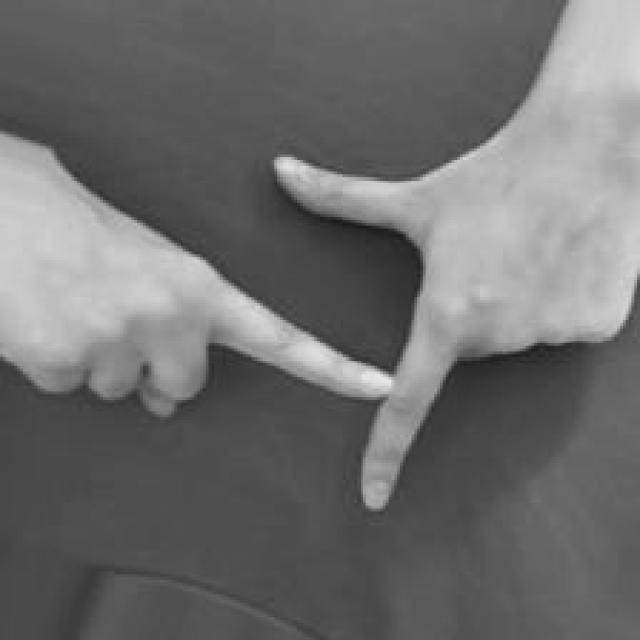F: (1, 131, 640, 512)
